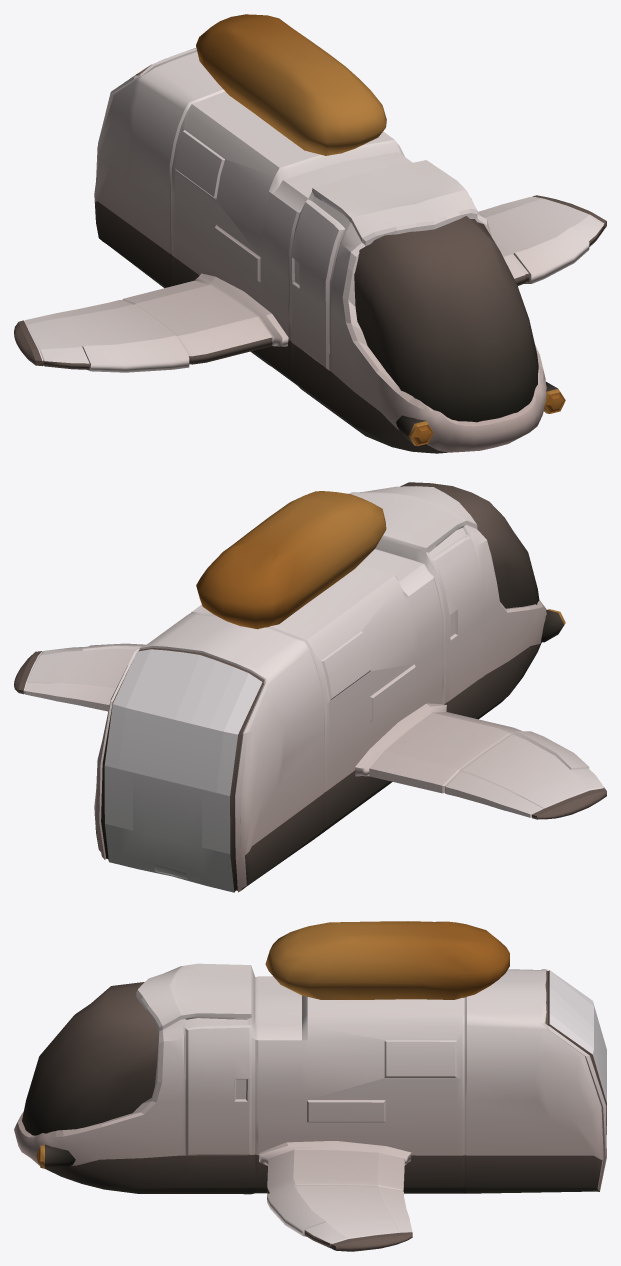
File: spaceship.fbx
The picture shows the model from 3 angles, top to bottom: view 1: azimuth 30°, elevation 25°; view 2: azimuth 150°, elevation 25°; view 3: azimuth 270°, elevation 25°; orthographic projection. The views are drawn at different scales.
Visible parts, largest first — view 1: pShuttle, pCockpit, pWings, pUpperPart, pLights; view 2: pShuttle, pWings, pUpperPart, pCockpit, pLights; view 3: pShuttle, pUpperPart, pCockpit, pWings, pLights.
Part boxes in pixels (x1,y1,x2,y2): pShuttle: (94, 48, 546, 453); pCockpit: (354, 216, 538, 422); pWings: (14, 195, 606, 372); pUpperPart: (196, 14, 386, 155); pLights: (396, 382, 565, 446); pShuttle: (94, 486, 546, 892); pWings: (14, 643, 606, 819); pUpperPart: (196, 491, 386, 629); pCockpit: (400, 482, 539, 608); pLights: (541, 609, 565, 642); pShuttle: (14, 963, 606, 1194); pUpperPart: (265, 921, 509, 999); pCockpit: (22, 982, 158, 1135); pWings: (259, 1141, 412, 1251); pLights: (36, 1144, 75, 1168).
Size of the model in its own units: 11.36 by 5.07 by 11.59.
Materials: 3 (3 with a texture image).
